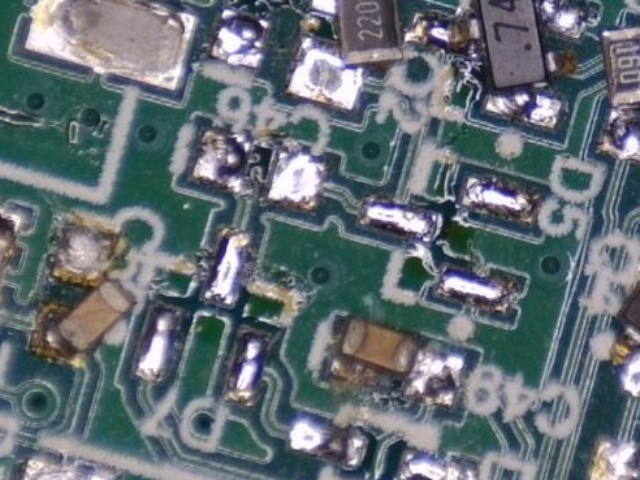pcb_defect: (408, 0, 586, 131), (29, 217, 134, 368), (284, 0, 405, 110), (328, 316, 466, 410), (597, 26, 640, 165), (609, 242, 640, 423)
